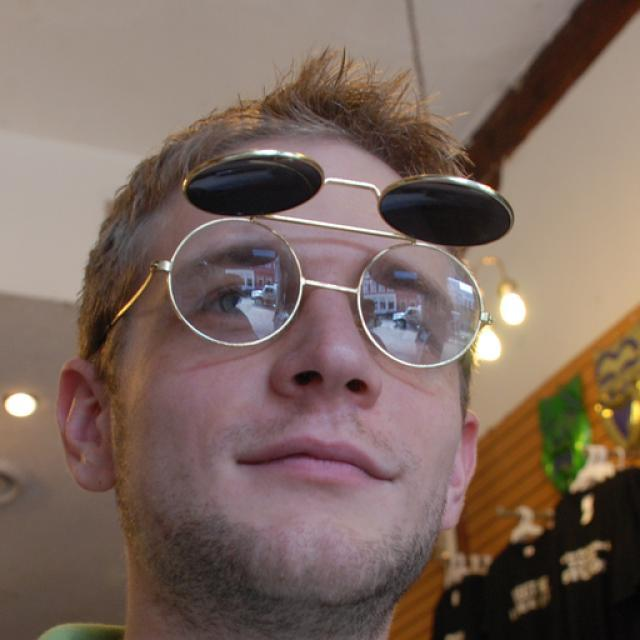neutral: (118, 134, 466, 610)
